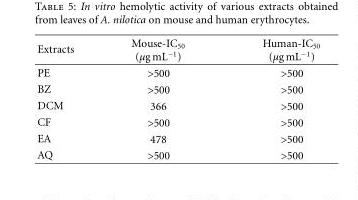table: (36, 36, 319, 161)
table column: (101, 36, 222, 161), (222, 36, 319, 161), (36, 36, 101, 161)
table column header: (36, 36, 319, 64)
table row: (36, 36, 319, 64), (36, 80, 319, 97), (36, 113, 319, 130), (36, 64, 319, 80), (36, 97, 319, 113), (36, 130, 319, 146), (36, 146, 319, 161)
